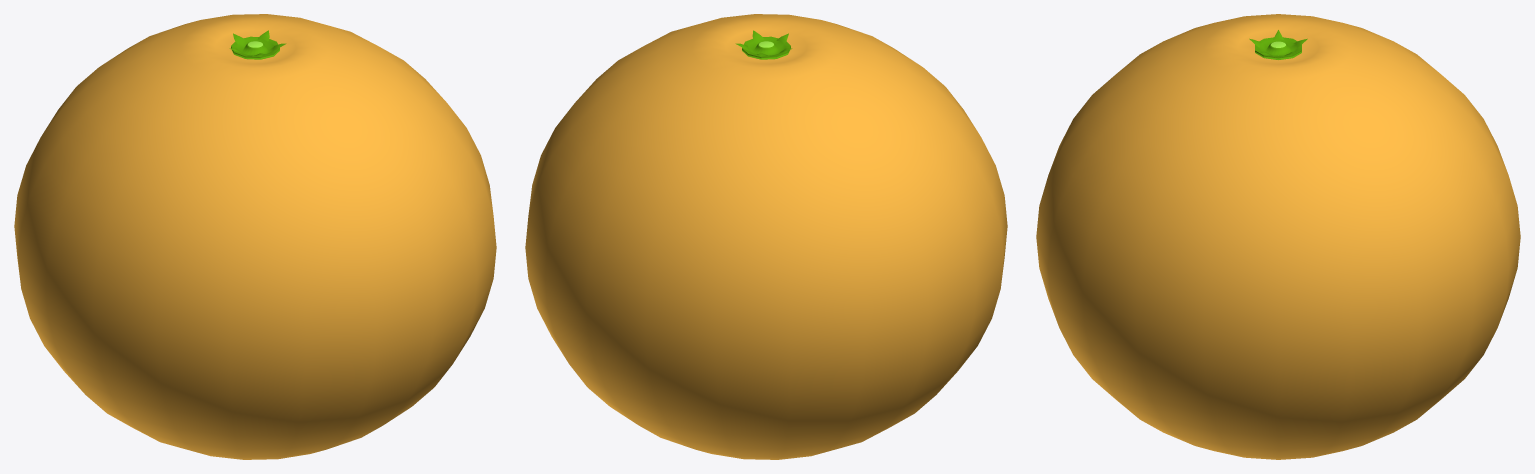
The model's file is orange-sphere.fbx.
3 views of the same model, side by side, from view 1: azimuth 30°, elevation 25°; view 2: azimuth 150°, elevation 25°; view 3: azimuth 270°, elevation 25° (orthographic).
Parts seen in each view (by area): view 1: orange_sphere; view 2: orange_sphere; view 3: orange_sphere.
Part boxes in pixels (box(x1,y1,x2,y2)): orange_sphere: box(14, 14, 496, 459); orange_sphere: box(525, 14, 1007, 459); orange_sphere: box(1036, 14, 1520, 459).
Size of the model in its own units: 5.92 by 5.29 by 5.92.
Materials: 1 (1 with a texture image).
